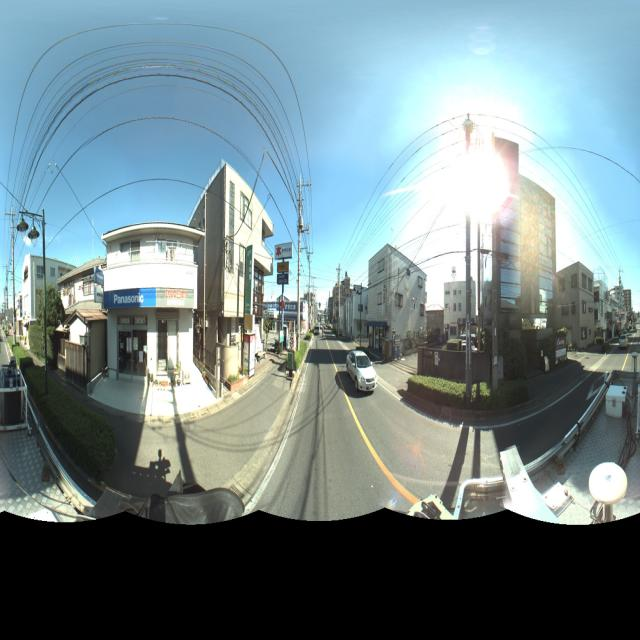b_1: (102, 217, 210, 399), (488, 129, 552, 387), (200, 172, 282, 370), (368, 243, 427, 366), (58, 259, 110, 380), (17, 251, 64, 361), (554, 253, 592, 356), (443, 273, 480, 352), (592, 266, 614, 342)
